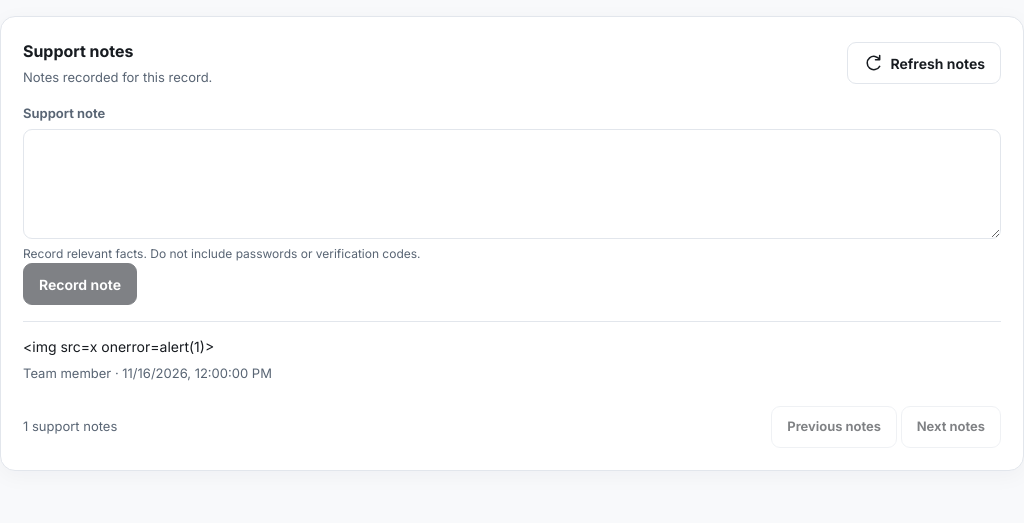
Scenario: support notes › records a note only when the write gate is enabled and verifies the receipt
Step 1. Type "A private note" into the text box labelled "Support note" → (512, 184), box top-left (23, 129), bottom-right (1001, 239)
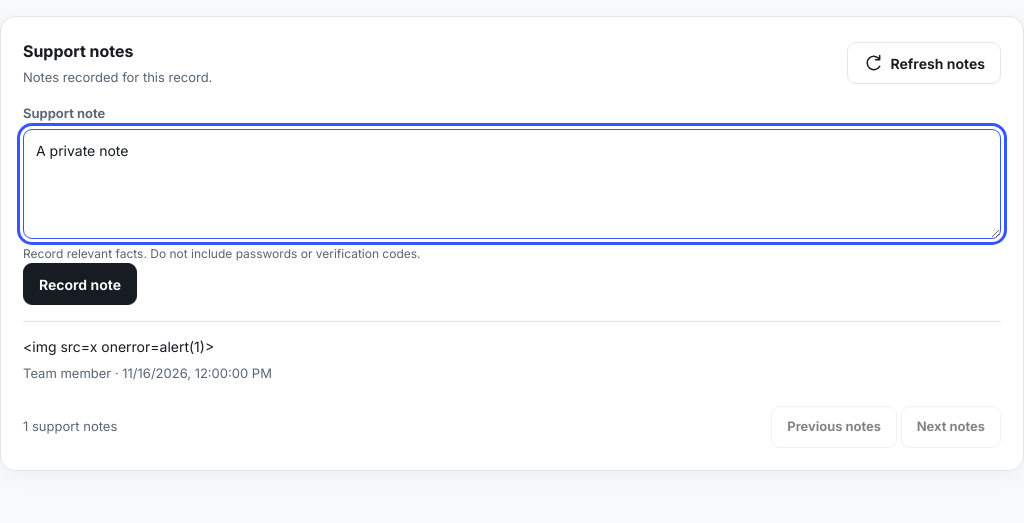
Step 2. Click the button "Record note" → click(80, 284), box top-left (23, 263), bottom-right (137, 305)
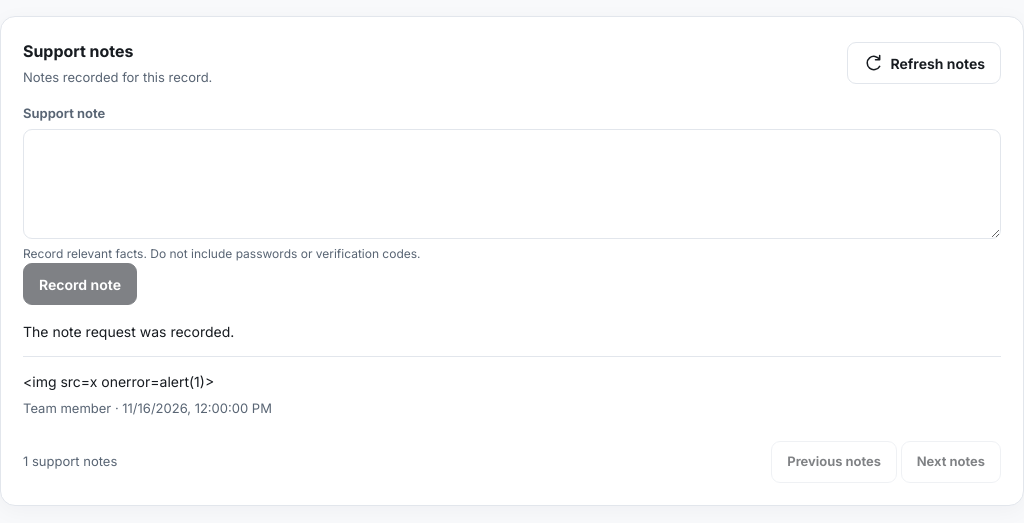
Expected: the text "The note request was recorded." is shown, top-left (23, 323), bottom-right (234, 340)
